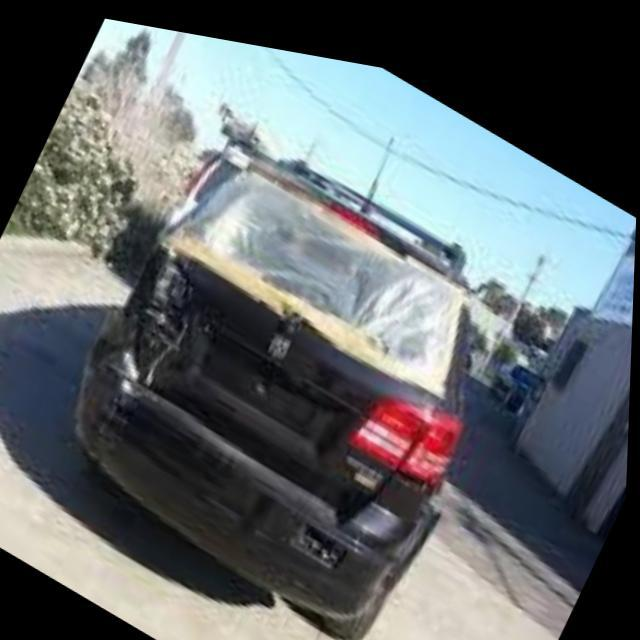crack: (89, 382, 140, 443)
dent: (90, 326, 140, 374)
glass shatter: (173, 157, 466, 384)
lamp broken: (118, 245, 191, 341)
